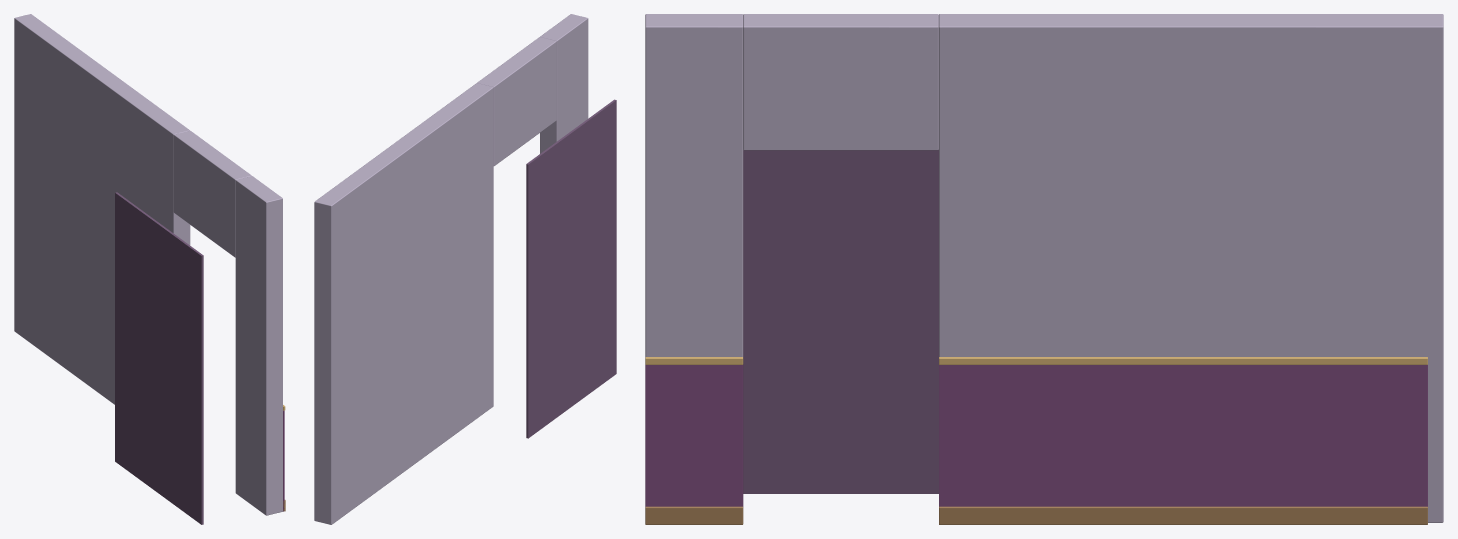
Rendered from Left_Wall.fbx.
The picture shows the model from 3 angles, left to right: view 1: azimuth 30°, elevation 25°; view 2: azimuth 150°, elevation 25°; view 3: azimuth 270°, elevation 25°; orthographic projection. The views are drawn at different scales.
Parts seen in each view (by area): view 1: Left_Wall_Mesh; view 2: Left_Wall_Mesh; view 3: Left_Wall_Mesh.
Boxes of the visible parts, x1,y1,x2,y2 form: Left_Wall_Mesh: (14, 14, 285, 524); Left_Wall_Mesh: (314, 14, 616, 524); Left_Wall_Mesh: (645, 14, 1443, 524).
Size of the model in its own units: 0.614 by 2.9 by 4.08.
